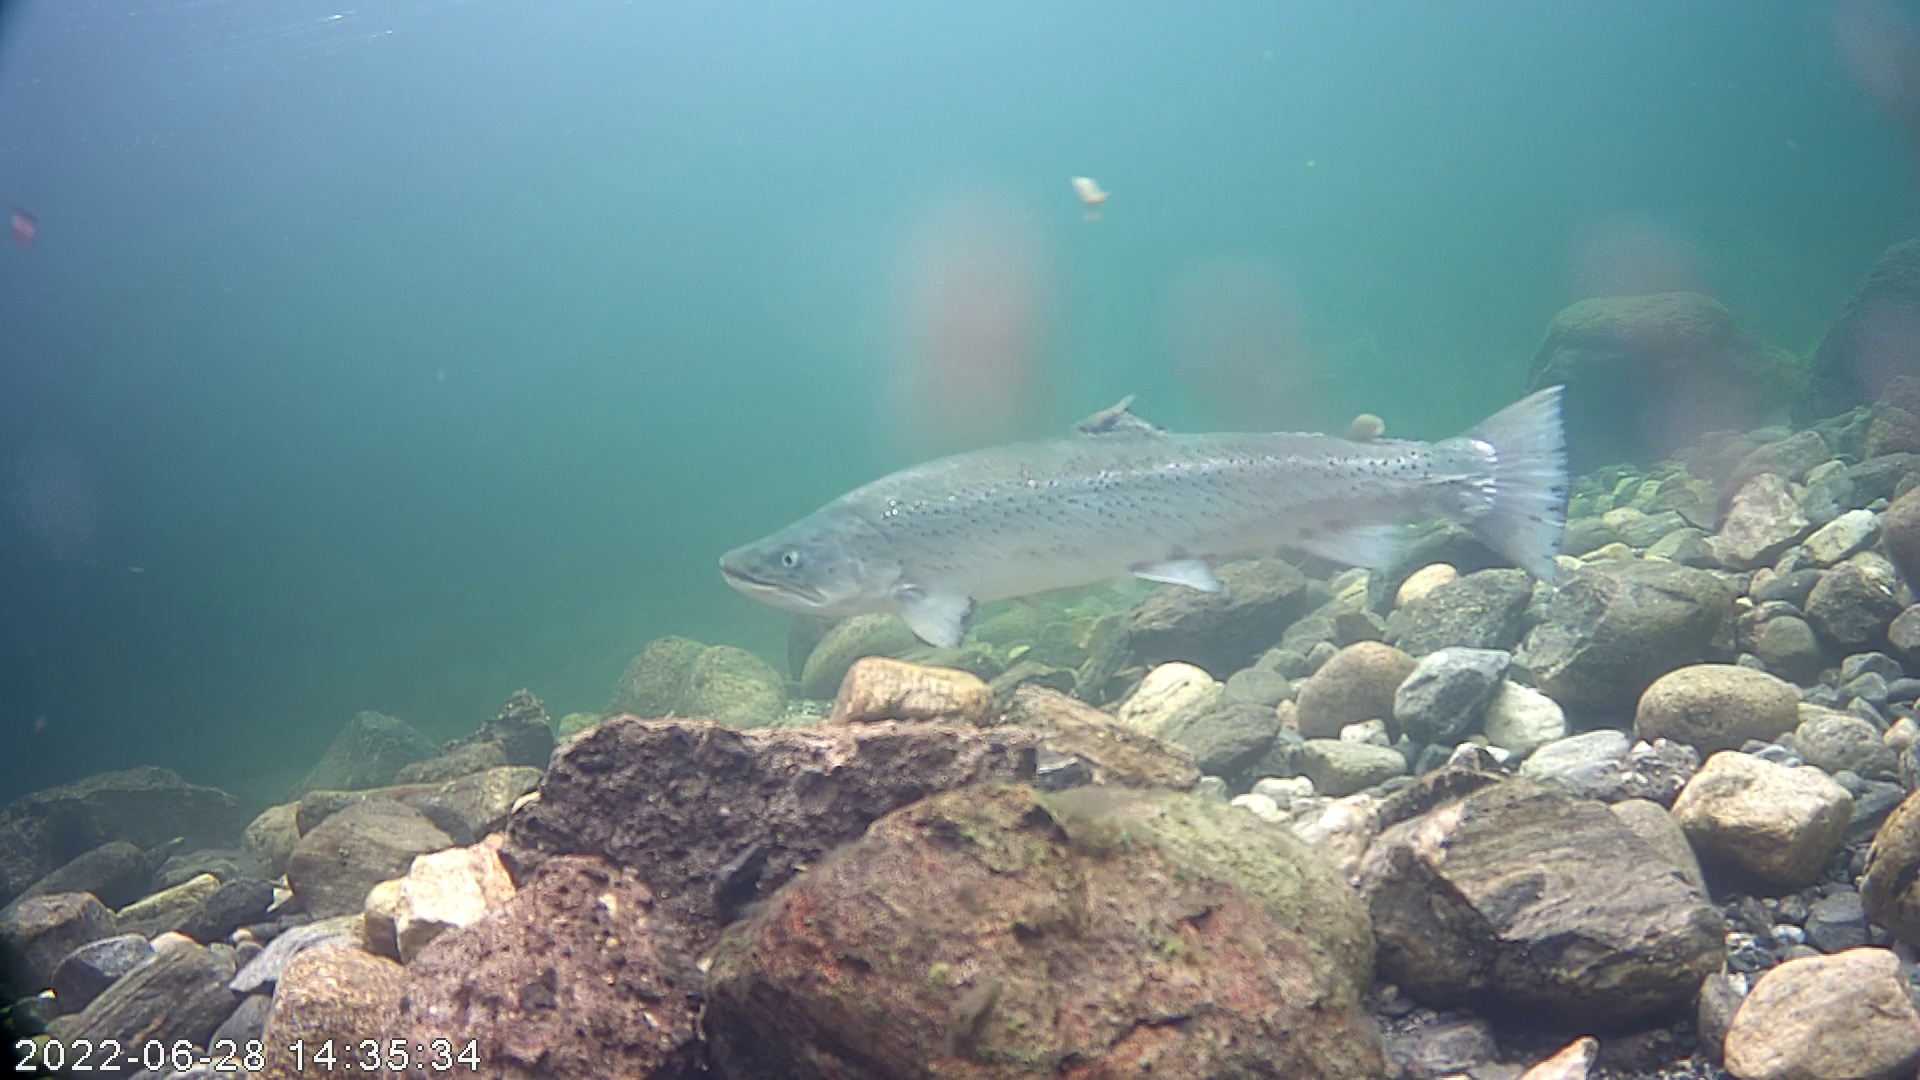salmon: (702, 277, 1601, 698)
